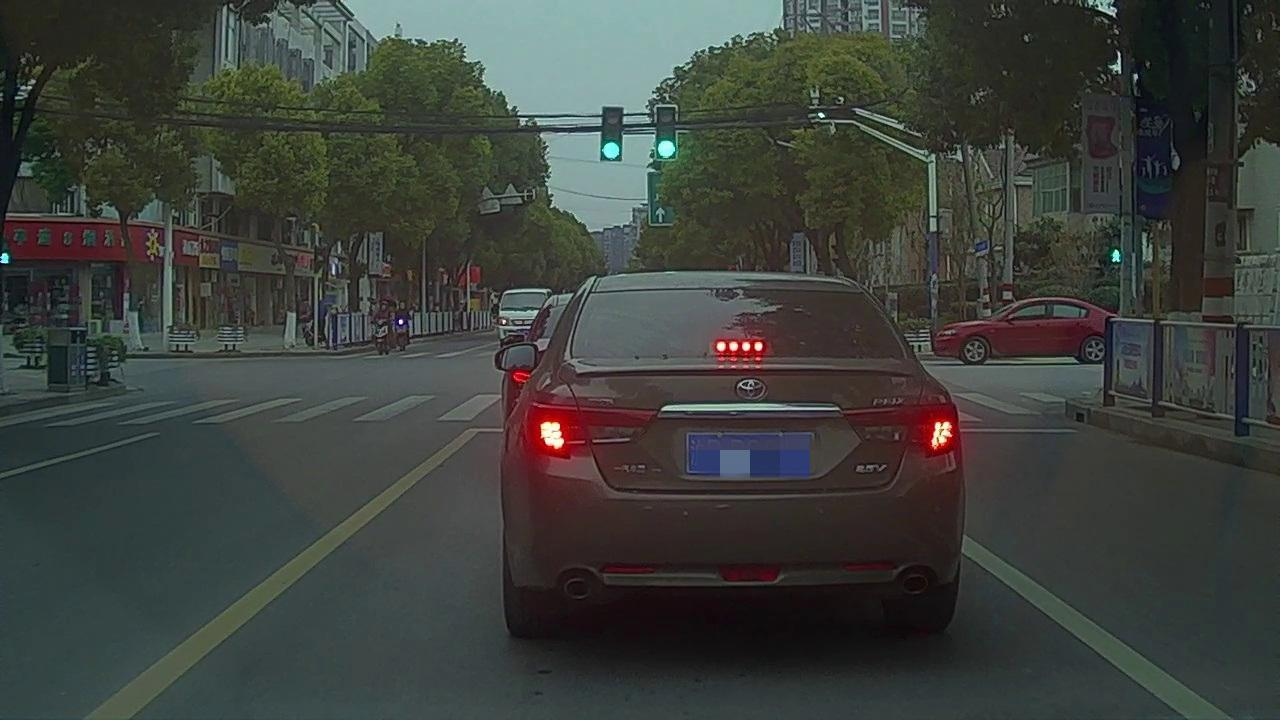traffic_light: (656, 105, 677, 159), (603, 108, 621, 158)
